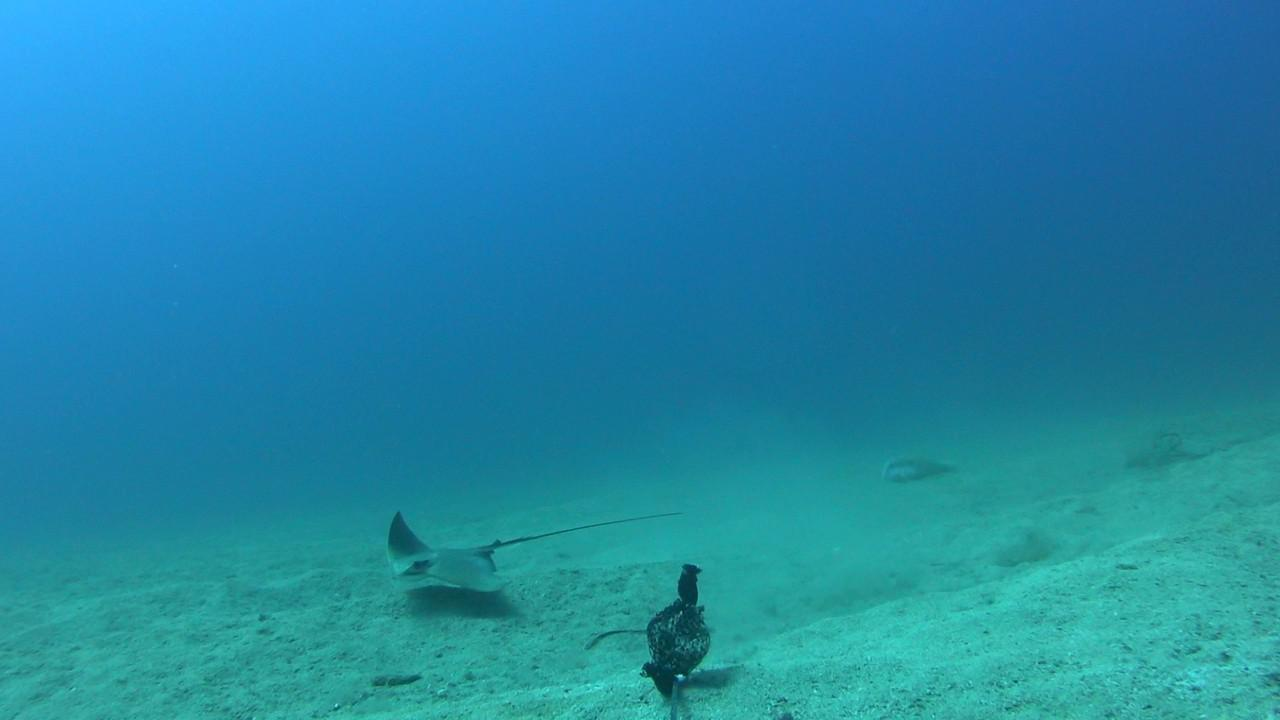myliobatis: (386, 485, 690, 585)
raor: (879, 454, 959, 485)
